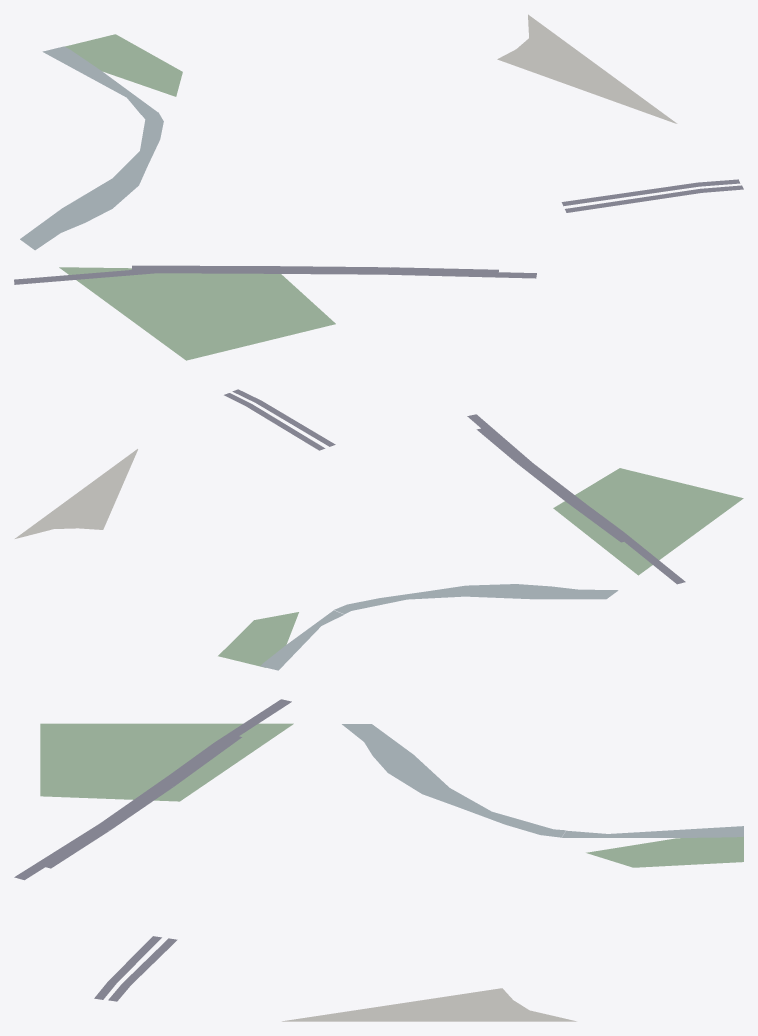
The model's file is 98_96_mid.glb.
3 renders of one model, top to bottom at view 1: azimuth 30°, elevation 25°; view 2: azimuth 150°, elevation 25°; view 3: azimuth 270°, elevation 25°, orthographic. The views are drawn at different scales.
Size of the model in its own units: 542 by 8.55 by 519.
